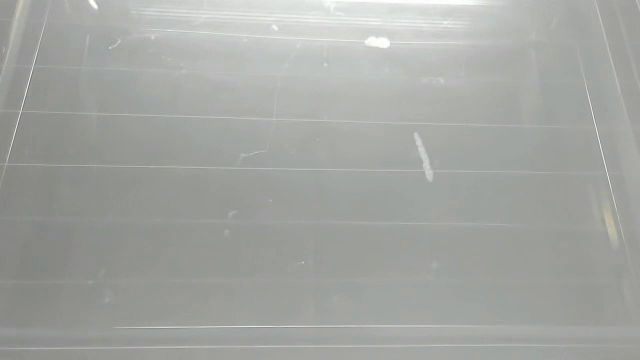alpha: (409, 126, 439, 186), (364, 33, 393, 52), (84, 1, 102, 12)
